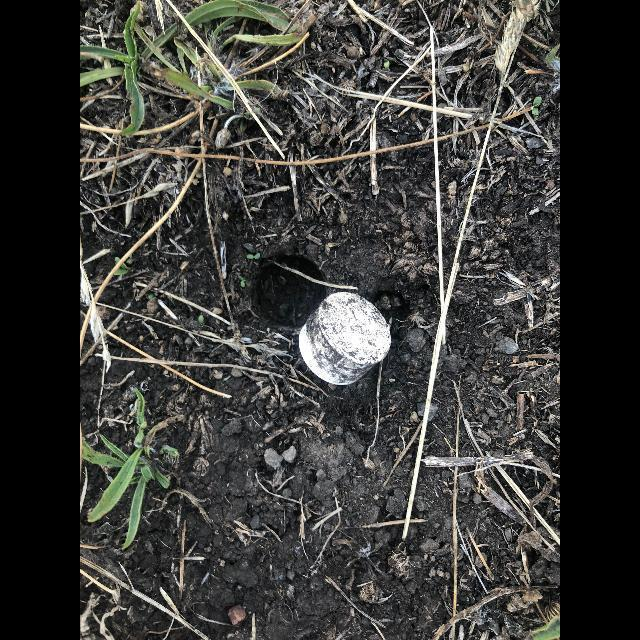Plastic: (299, 292, 391, 384)
